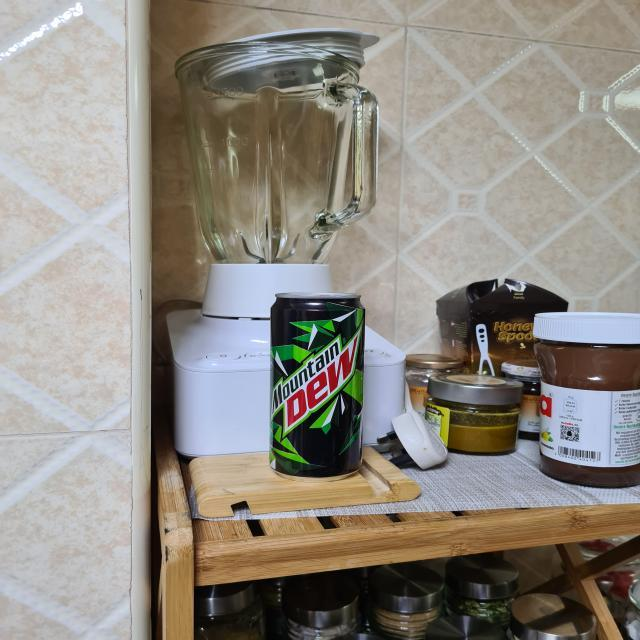can: (270, 290, 366, 480)
